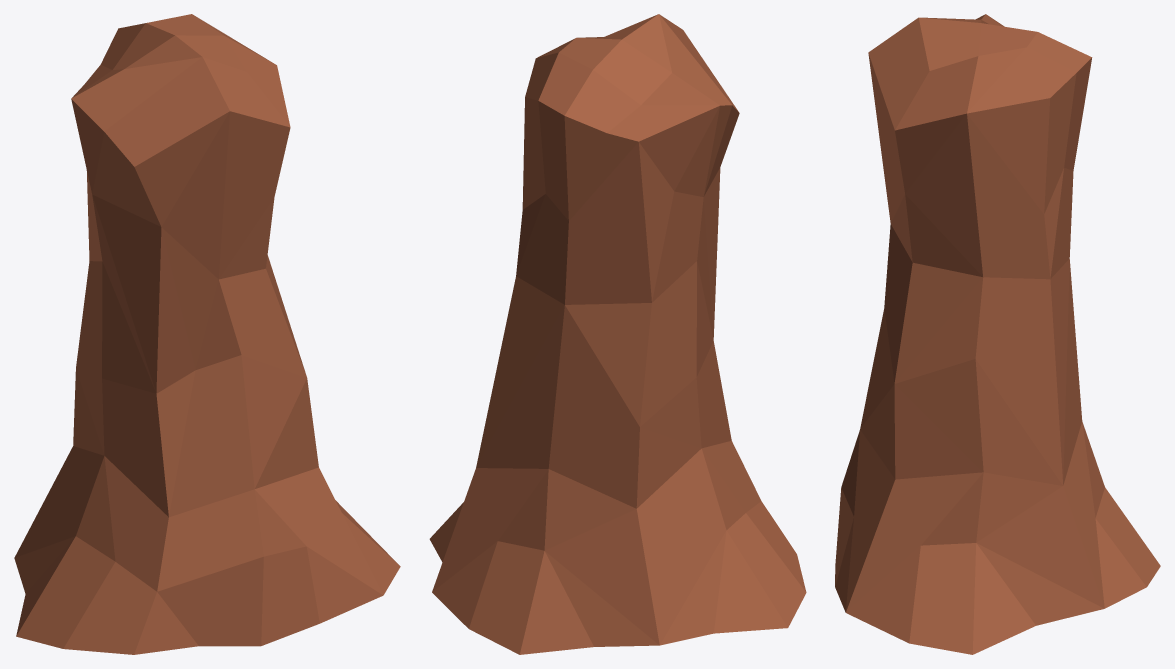
File: large_rock3.glb
3 views of the same model, side by side, from view 1: azimuth 30°, elevation 25°; view 2: azimuth 150°, elevation 25°; view 3: azimuth 270°, elevation 25° (orthographic). The views are drawn at different scales.
Visible parts, largest first — view 1: large_rock3; view 2: large_rock3; view 3: large_rock3.
Part boxes in pixels (x1,y1,x2,y2): large_rock3: (14, 14, 400, 654); large_rock3: (429, 14, 806, 654); large_rock3: (835, 14, 1160, 654).
Bounding box in the file's own units: 4.68 × 7.26 × 3.77.
